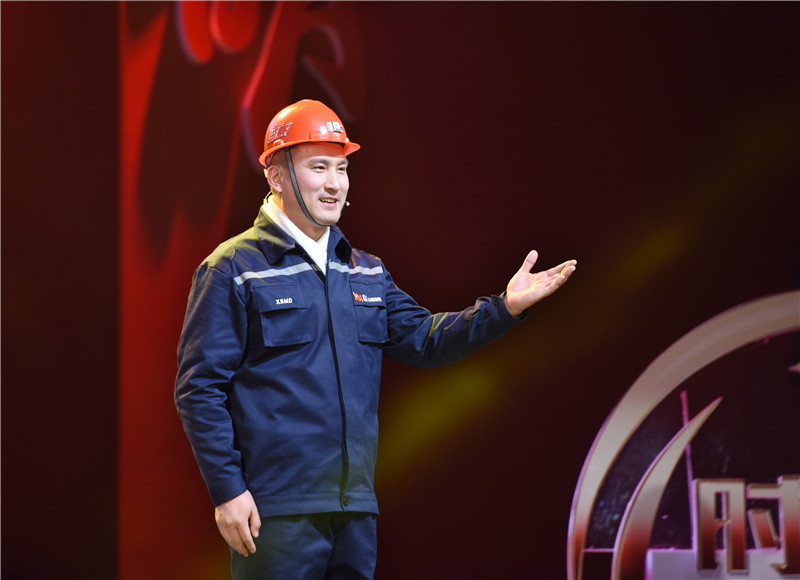helmet: (243, 91, 385, 233)
